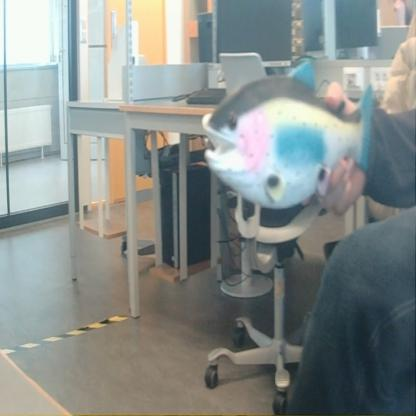rubberfish: (200, 55, 378, 211)
